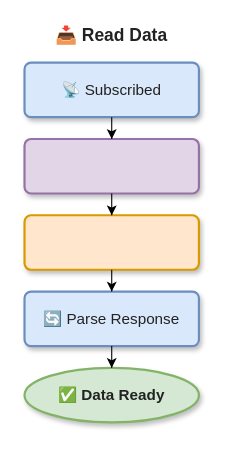
Some shapes in this 225 by 449 pixel diagram are drawn without their labels. Here are the shapes that lost their labels. From the top down, the centre of each, then its label:
At point 112,167: "📤 Request Data".
At point 112,243: "📨 Receive Chunks".
